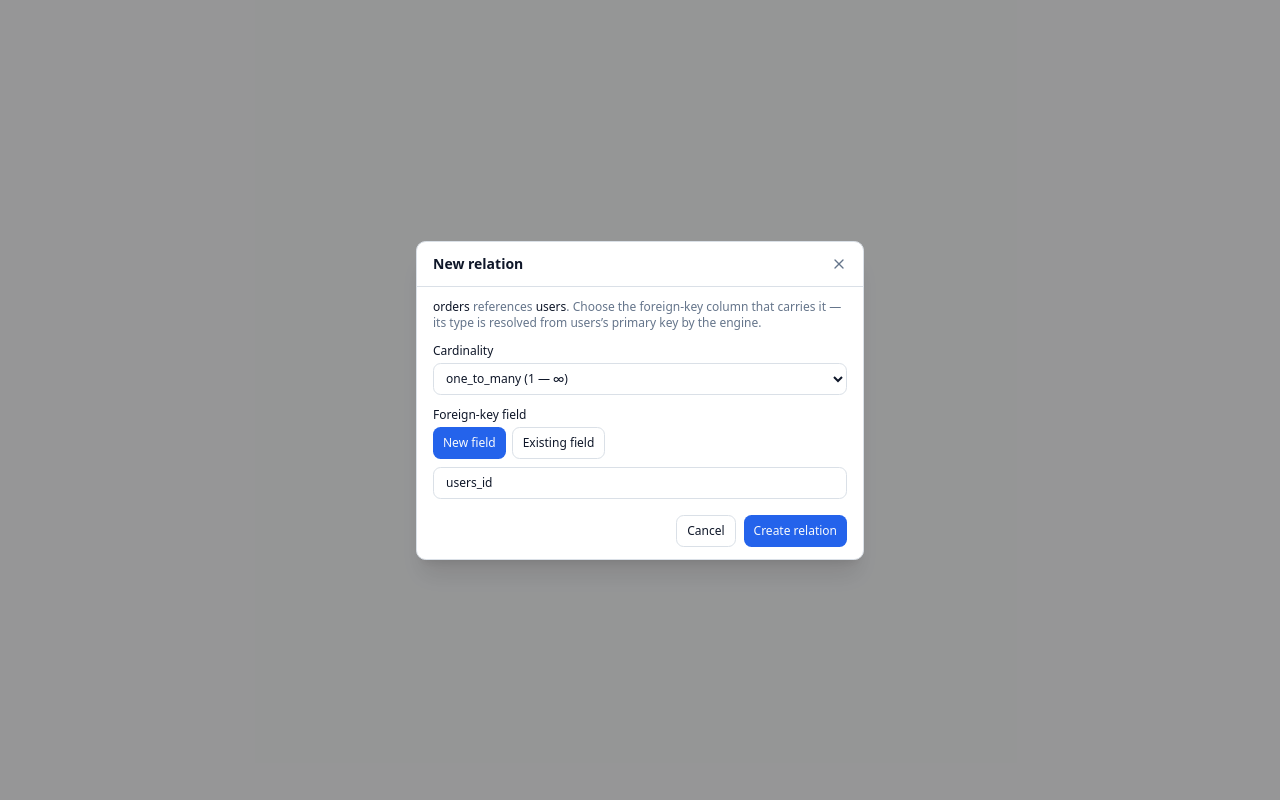
Test case: RelationDialog (FK field is mandatory) › disables Create in 'existing field' mode until a field is selected
The image size is (1280, 800).
Click the button "Existing field". click: (559, 442)
box: [512, 426, 605, 458]
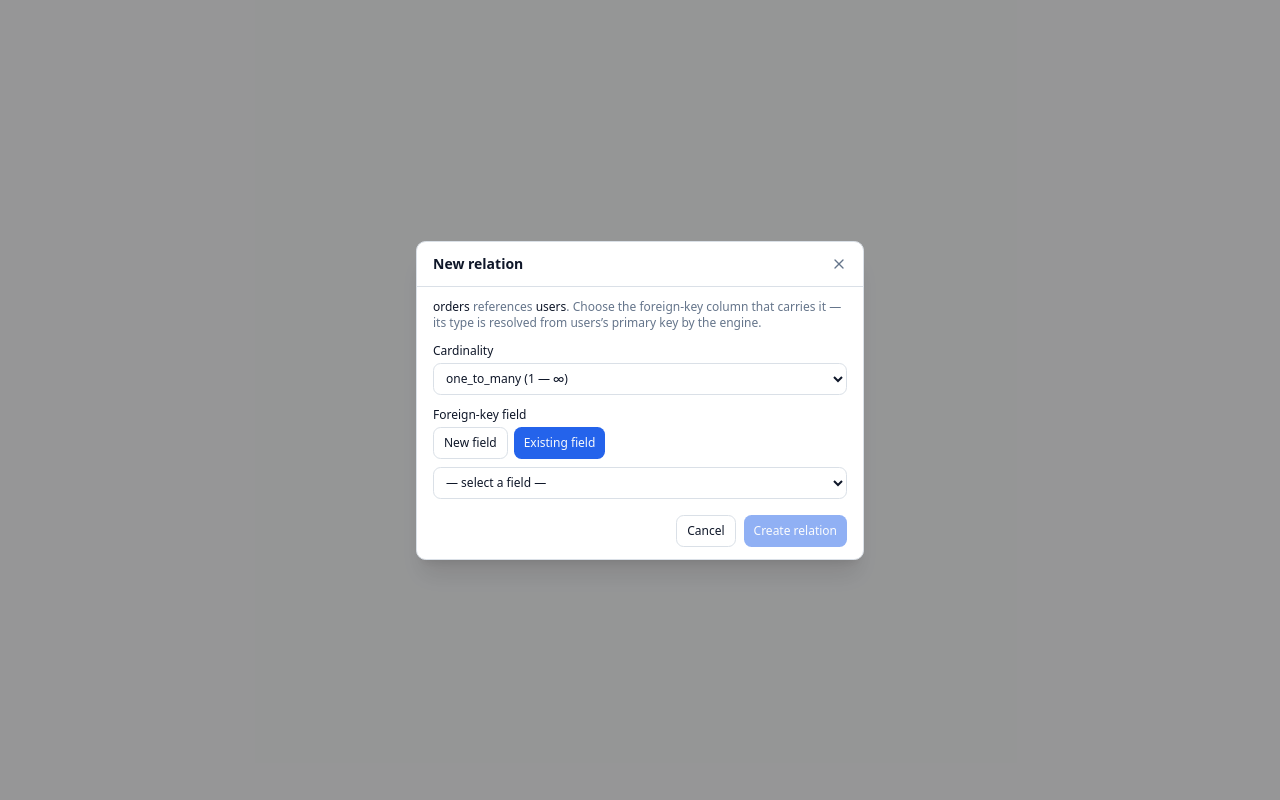
Now the button "Create relation" is disabled, box [744, 514, 847, 546]
Select "user_id (uuid)" in the dropdown named "existing foreign-key field". click: (640, 482)
box: [433, 466, 847, 498]
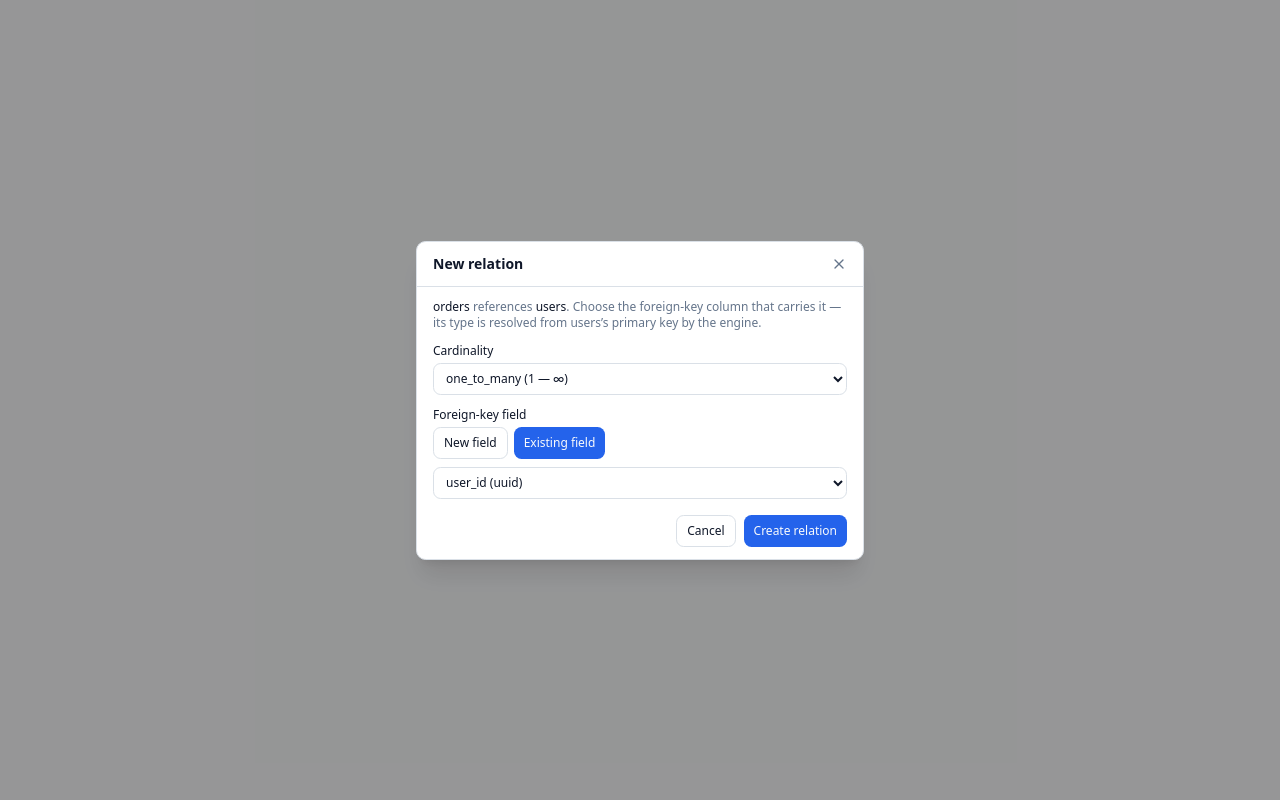
Now the button "Create relation" is enabled, box [744, 514, 847, 546]
